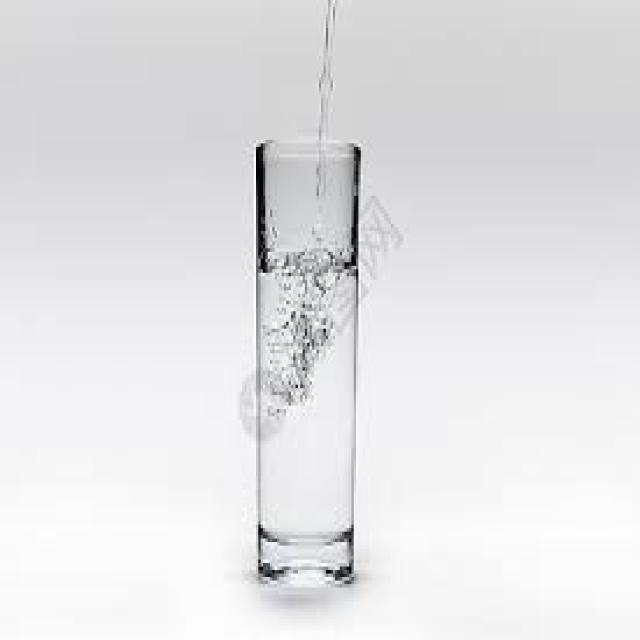Glass: (254, 142, 361, 596)
